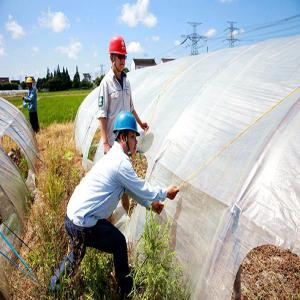blue: (114, 112, 140, 158)
red: (109, 38, 128, 75)
yellow: (27, 78, 34, 90)
